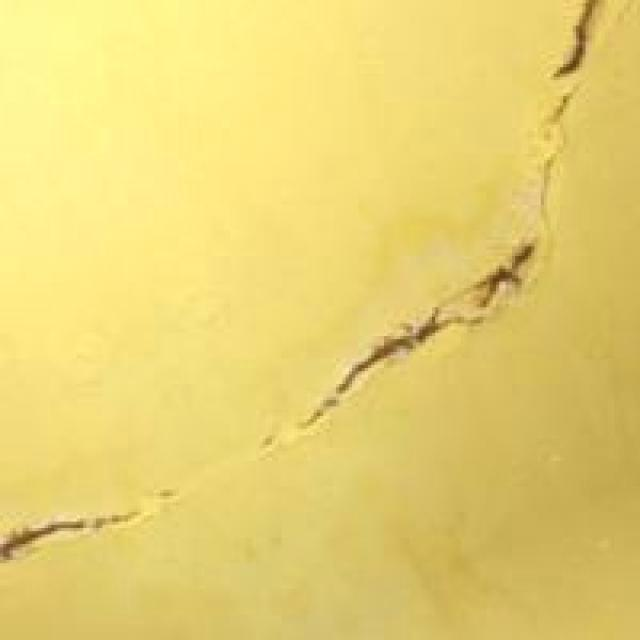crack: (242, 0, 618, 470), (0, 492, 146, 596)
